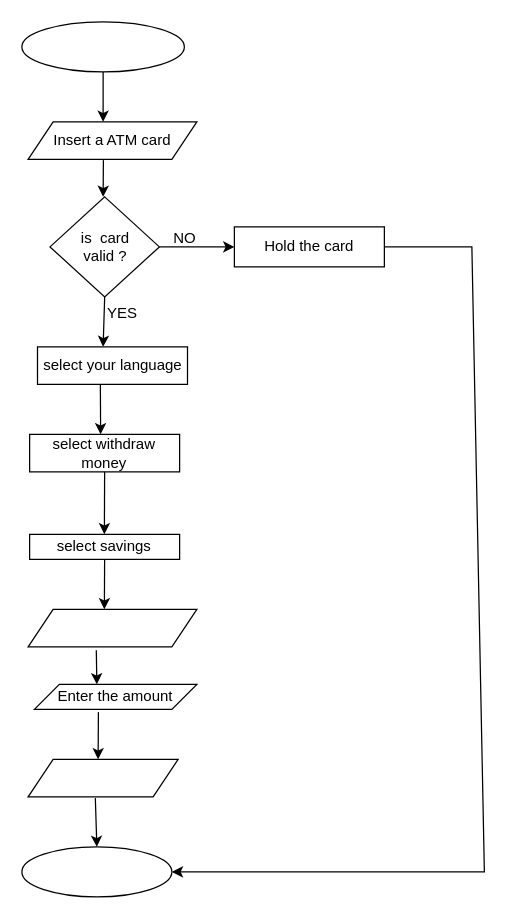
Image size: 516x919. Some labels were removed from this diagram. The shapes that lost their labels are listed below. From the top down, each one's centre as x and y in pixels, then its label:
point 102,46: START
point 112,627: Enter pin number
point 102,777: collect your cash
point 96,871: STOP
